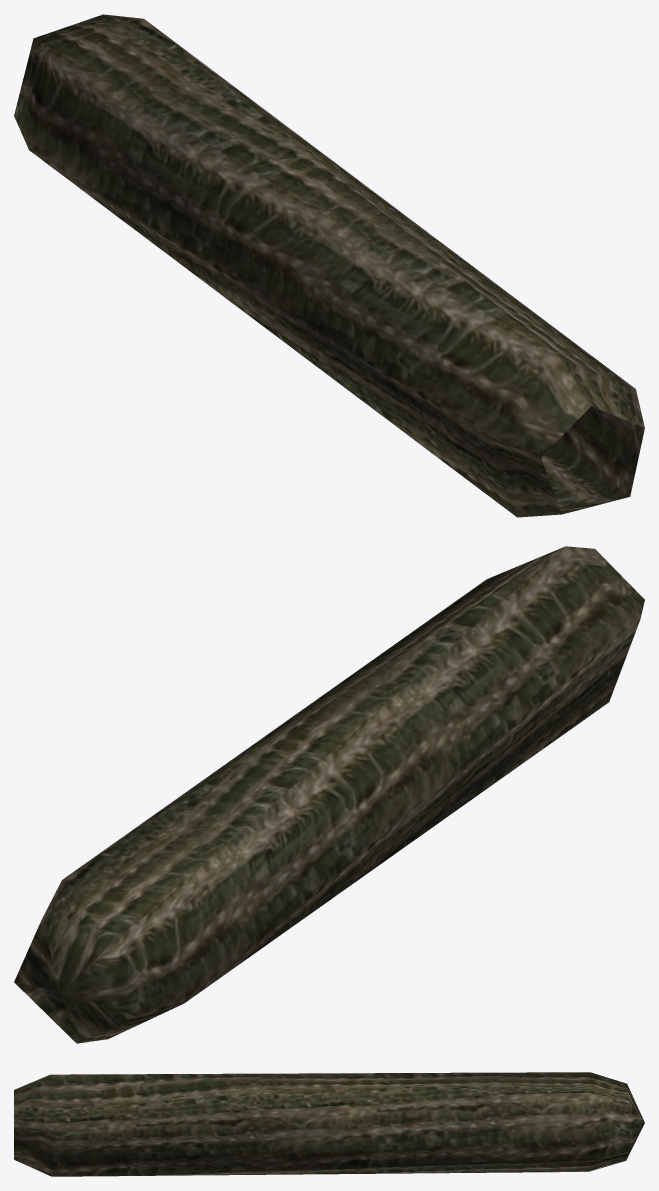
The model's file is MEP_Cactus_07.fbx.
3 views of the same model, one above another, from view 1: azimuth 30°, elevation 25°; view 2: azimuth 150°, elevation 25°; view 3: azimuth 270°, elevation 25° (orthographic). The views are drawn at different scales.
Visible parts, largest first — view 1: MEP_Cactus_07; view 2: MEP_Cactus_07; view 3: MEP_Cactus_07.
Part boxes in pixels (x1,y1,x2,y2): MEP_Cactus_07: [14, 14, 644, 517]; MEP_Cactus_07: [14, 546, 644, 1043]; MEP_Cactus_07: [14, 1072, 644, 1176].
Bounding box in the file's own units: 0.4936 × 0.491 × 2.92.
Materials: 1 (1 with a texture image).
